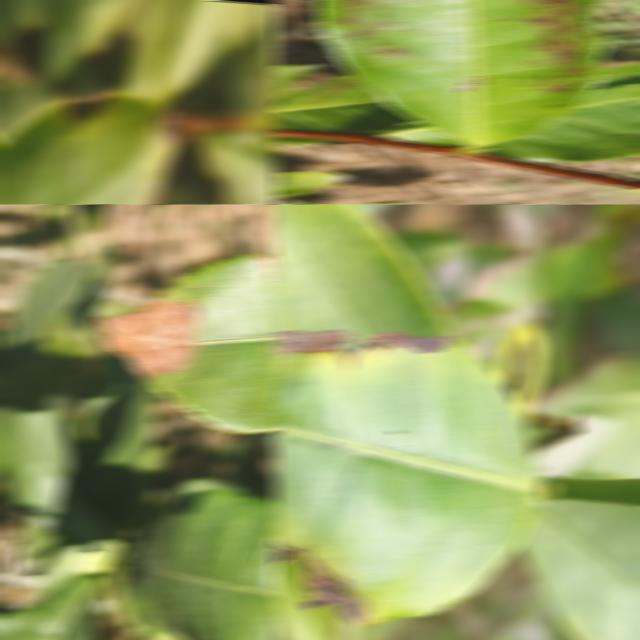Leaf: (272, 330, 542, 625), (316, 0, 607, 151), (94, 254, 278, 433), (272, 204, 454, 353), (120, 488, 278, 640), (0, 94, 178, 204), (517, 499, 640, 640), (0, 405, 117, 540), (485, 61, 640, 161), (75, 352, 156, 531), (272, 75, 417, 133), (5, 261, 94, 348), (0, 574, 106, 640), (197, 130, 278, 204), (272, 171, 348, 195)
